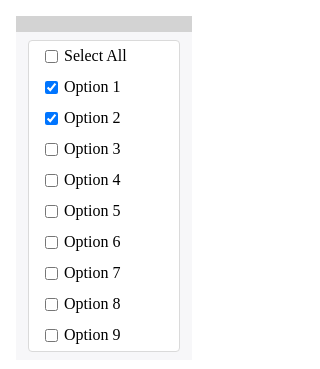
it: MultiCheck › Options interactions › should unselect options when clicking on the checkbox
Click the checkbox showing "1" at [52, 88], box top-left (45, 81), bottom-right (58, 94)
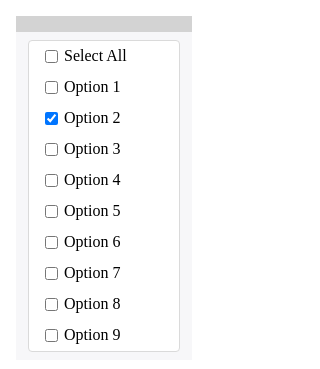
Check: the checkbox showing "1" is not checked, box top-left (45, 81), bottom-right (58, 94)
Click the checkbox showing "2" at [52, 118], box top-left (45, 112), bottom-right (58, 125)
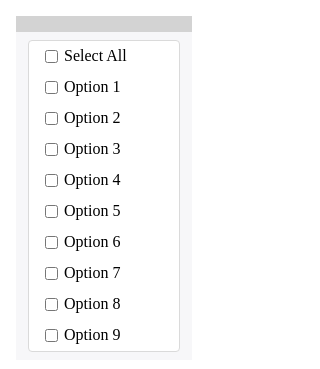
Check: the checkbox showing "2" is not checked, box top-left (45, 112), bottom-right (58, 125)
